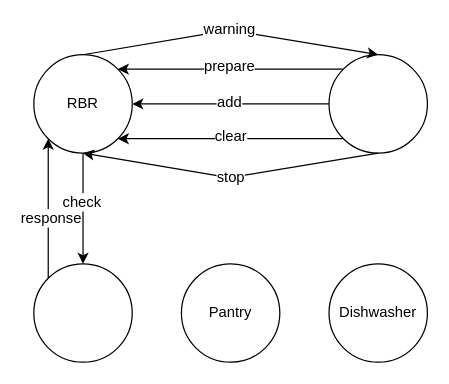
This 449x384 diagram has some shape labels left out. The centre of each missing label's shape, as x and y in pixels:
Fridge: point (82, 312)
Maitre: point (377, 103)
